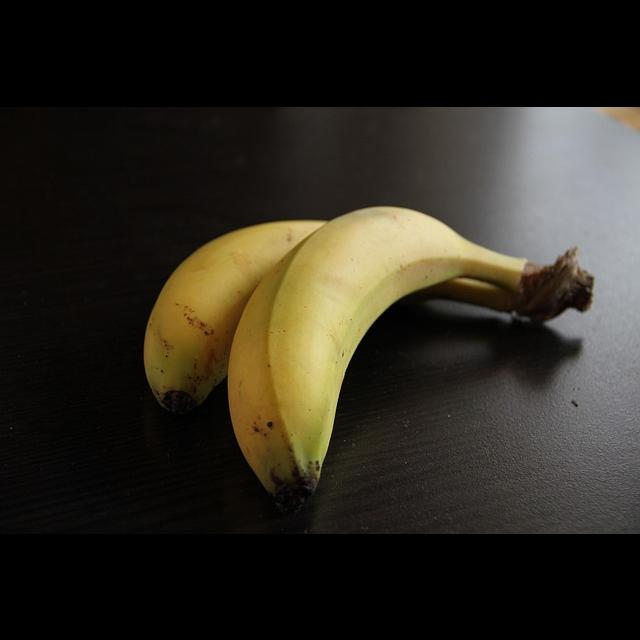apple: (230, 188, 517, 518), (132, 187, 408, 438)
